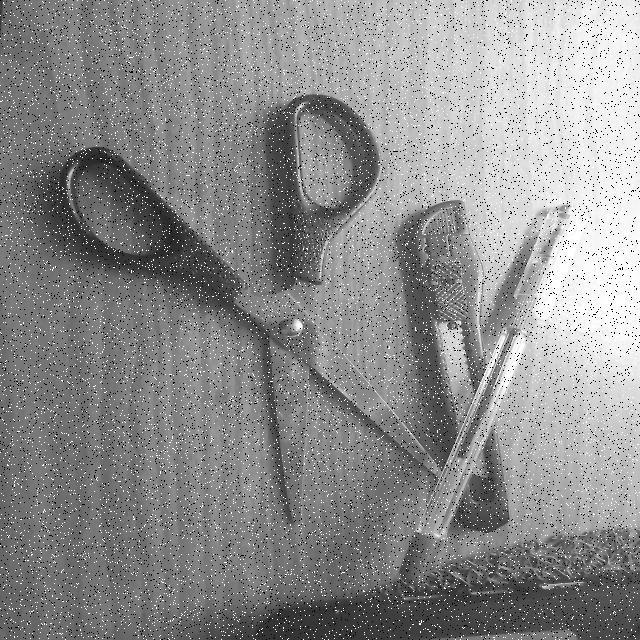scissors: (54, 67, 460, 549)
